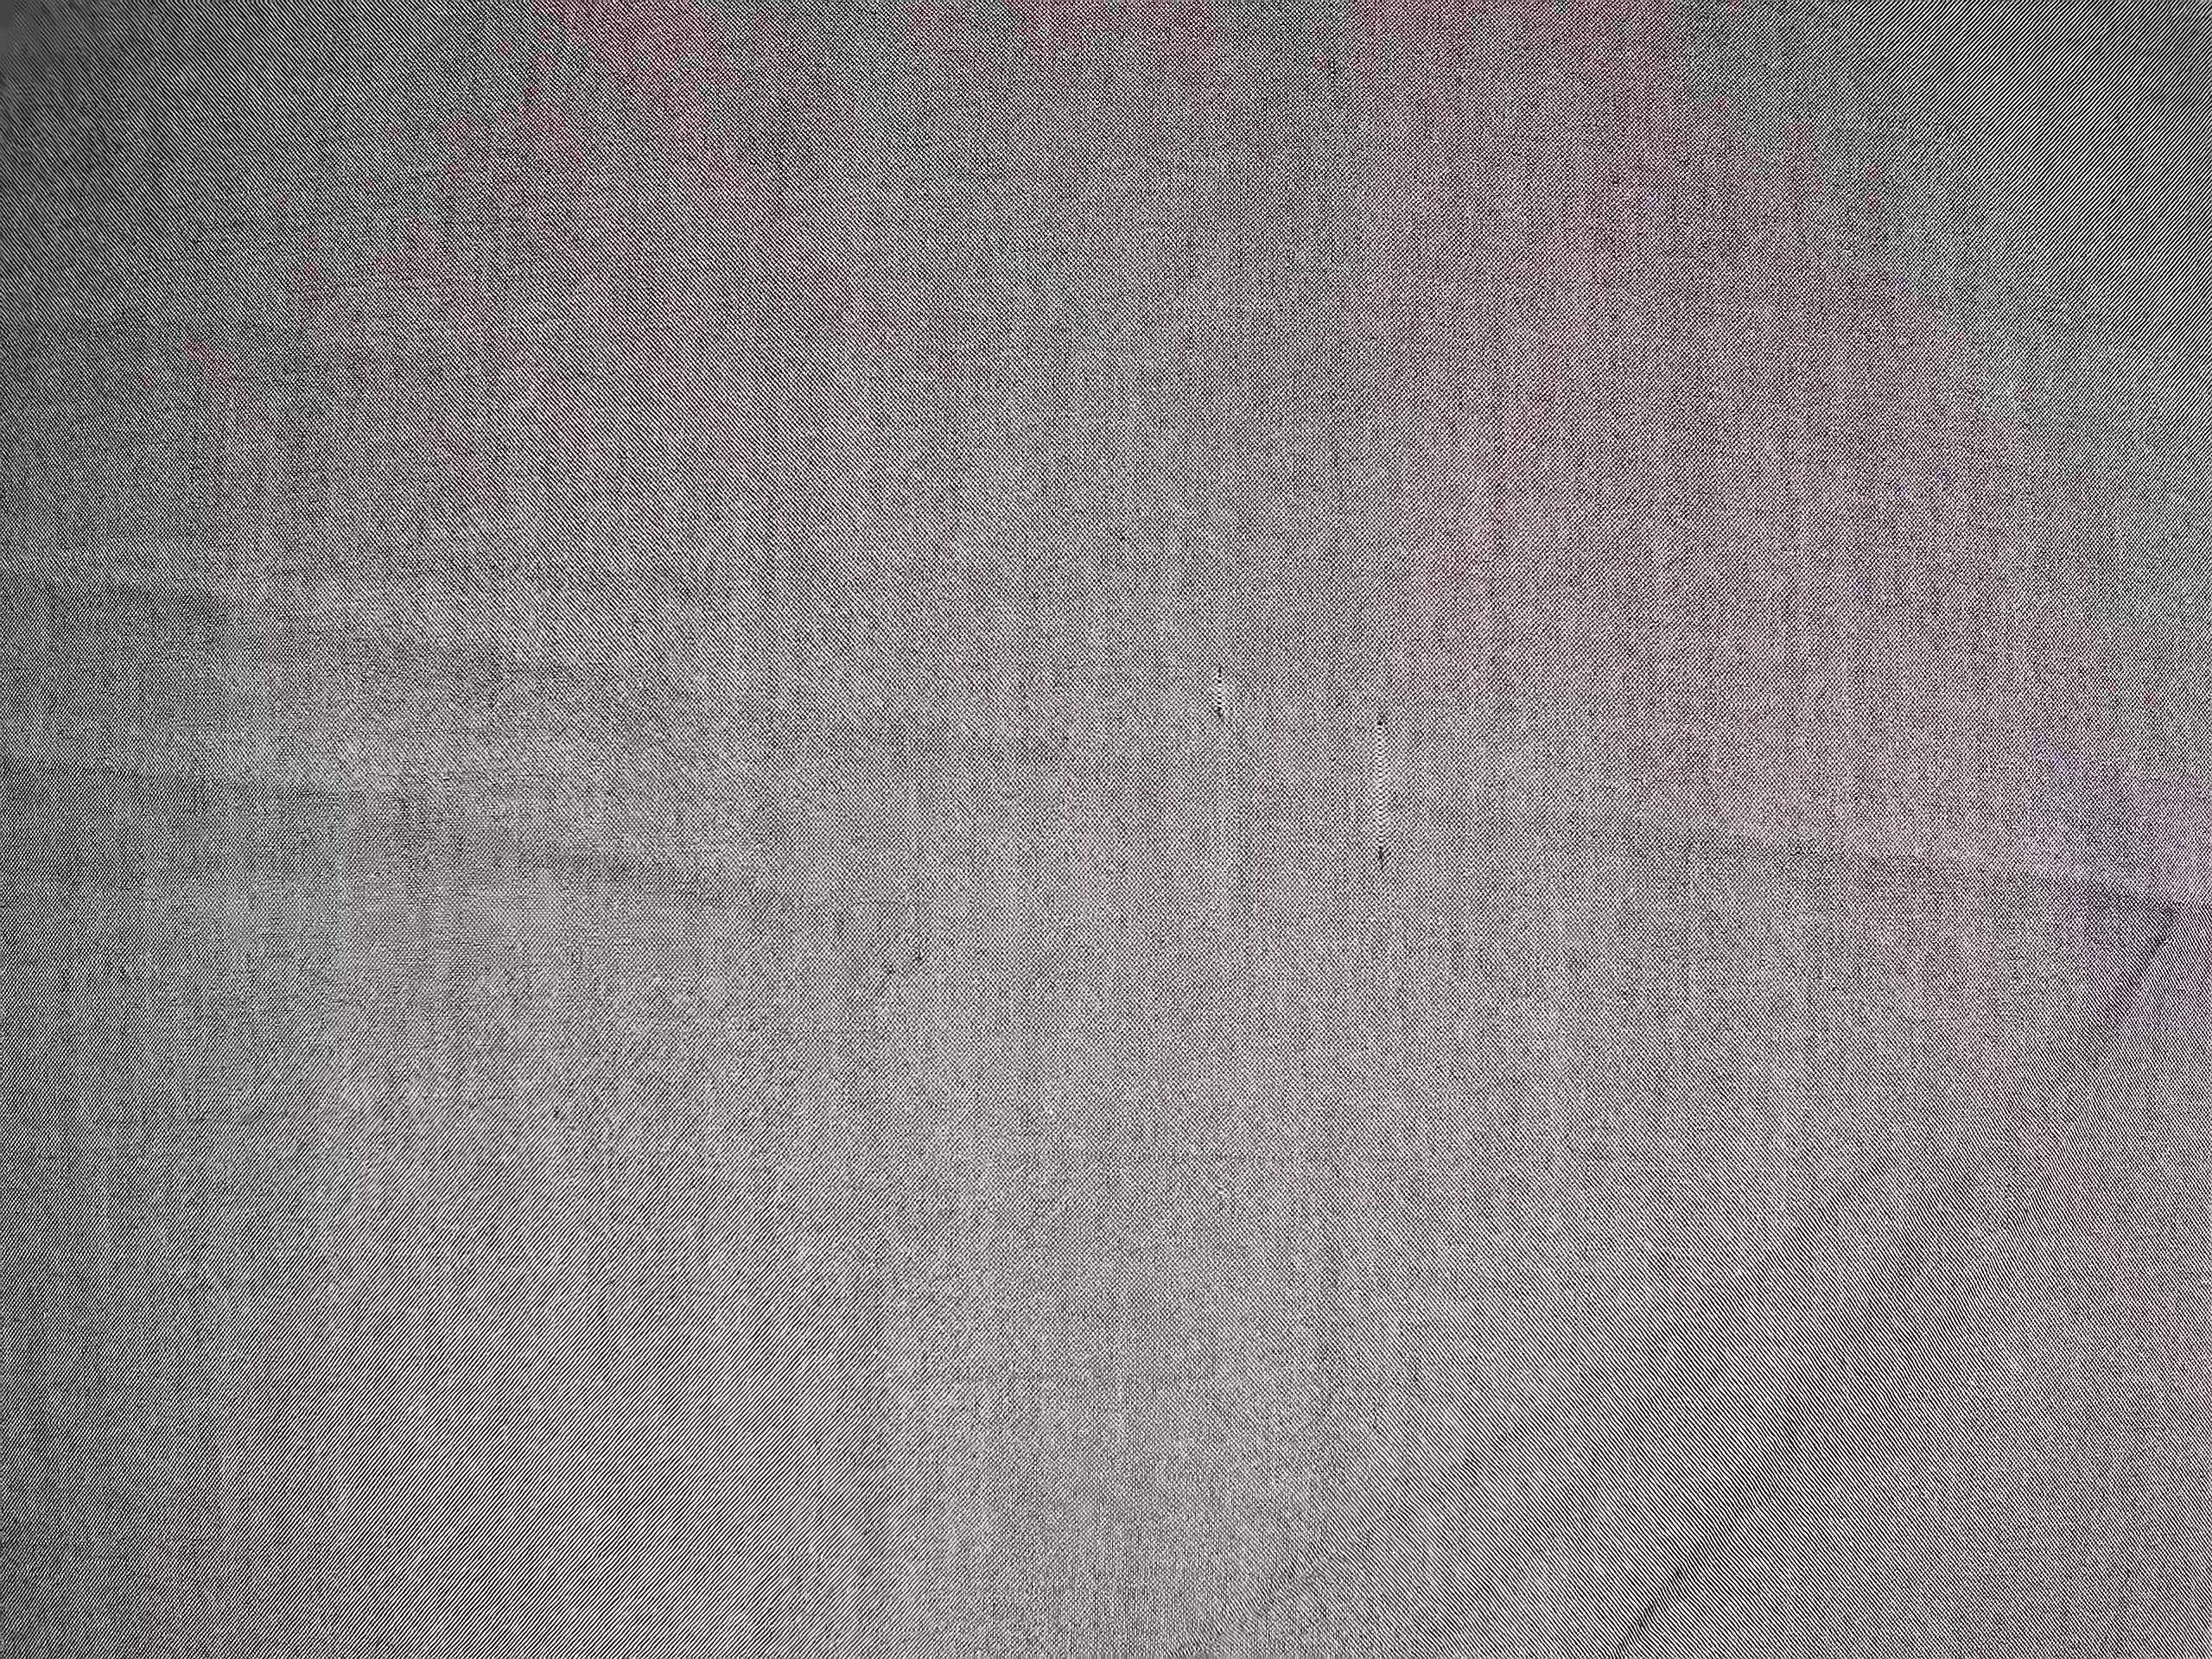others: (1367, 708, 1399, 884), (1204, 653, 1233, 730)
